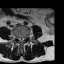CCS_normal: (20, 36, 22, 44)
LFS_stenosis: (24, 35, 26, 41)
LLS_normal: (22, 36, 24, 43)
RFS_stenosis: (17, 35, 18, 41)
RLS_normal: (18, 36, 20, 43)
